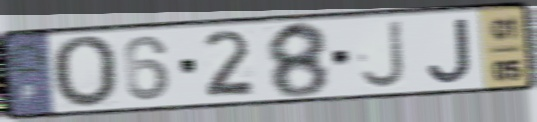2: (204, 27, 259, 101)
6: (121, 34, 175, 103)
8: (263, 19, 334, 100)
J: (358, 17, 409, 91), (424, 16, 475, 86)
O: (48, 34, 120, 111)
